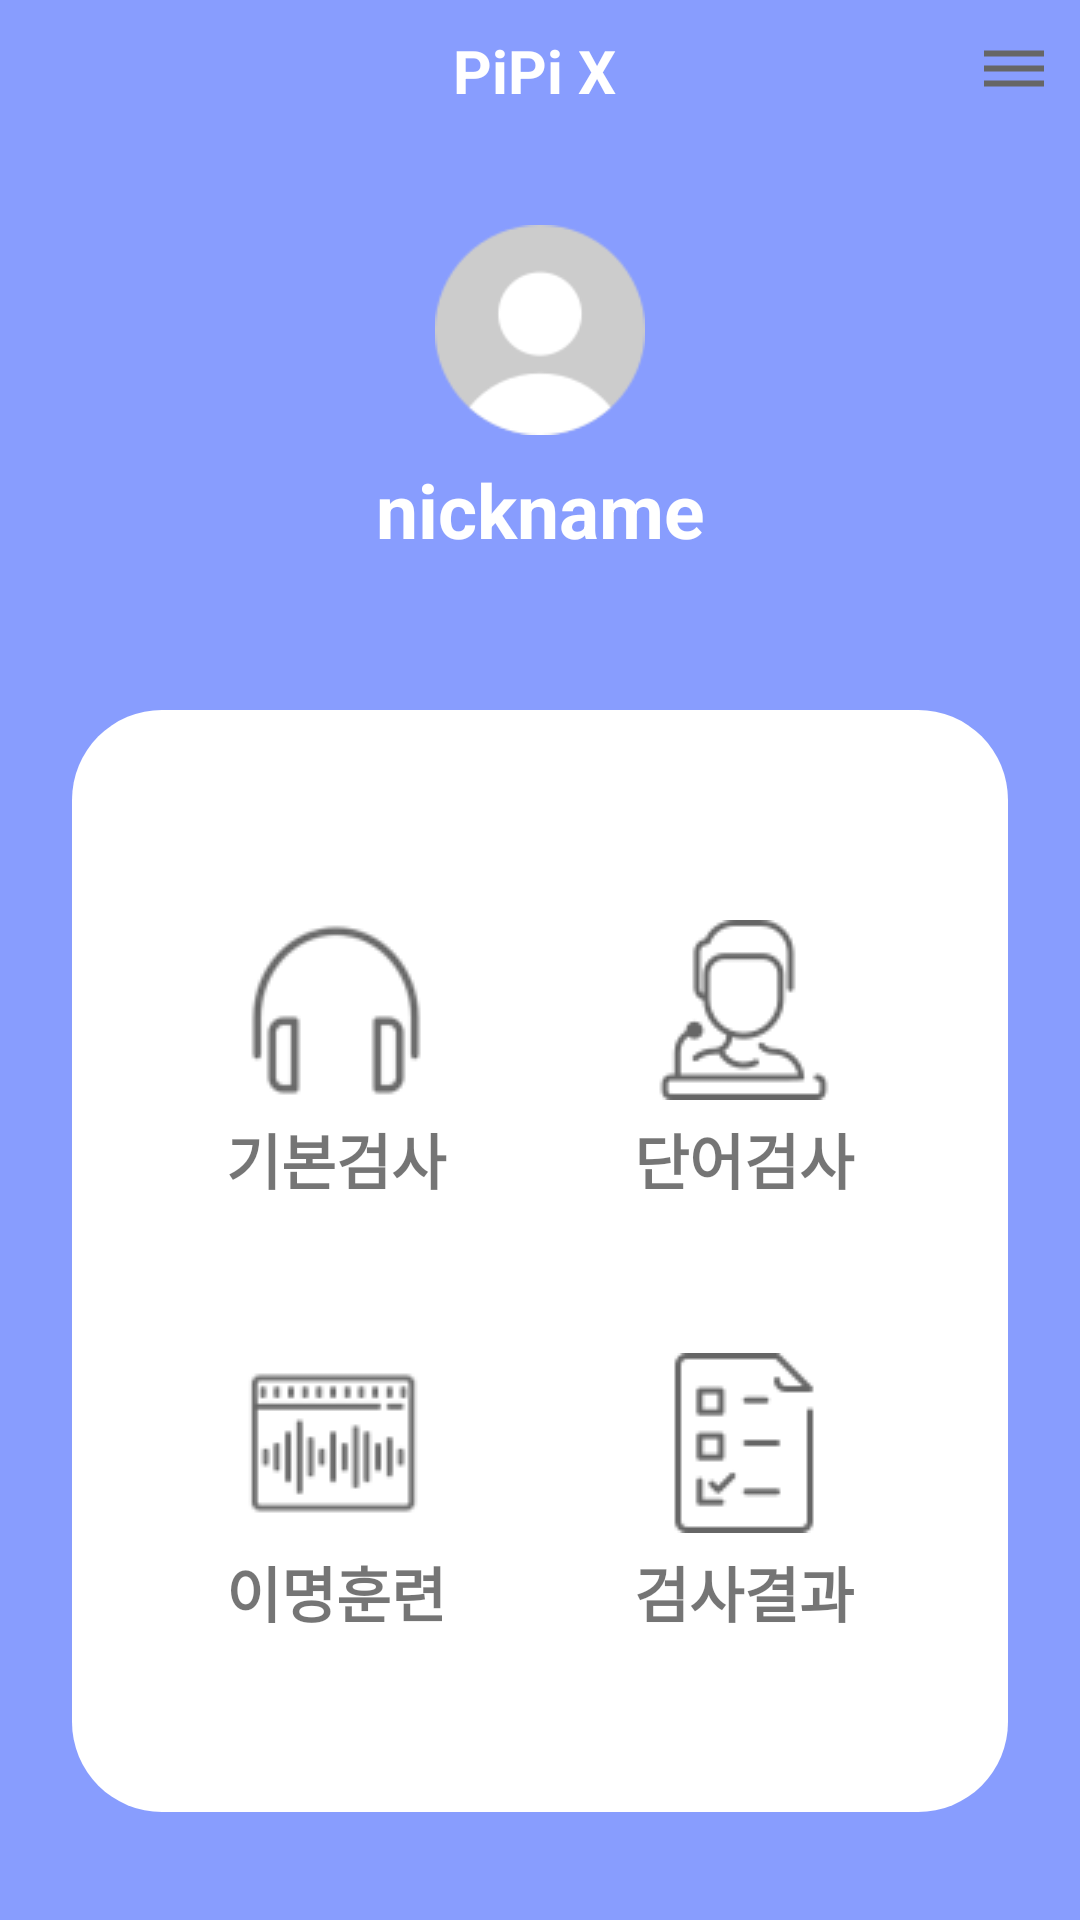

Screen size 1080 × 1920. Icon name, then its center in pixels as [x,y]:
dehaze: [1014,68]
profileicon: [540,330]
